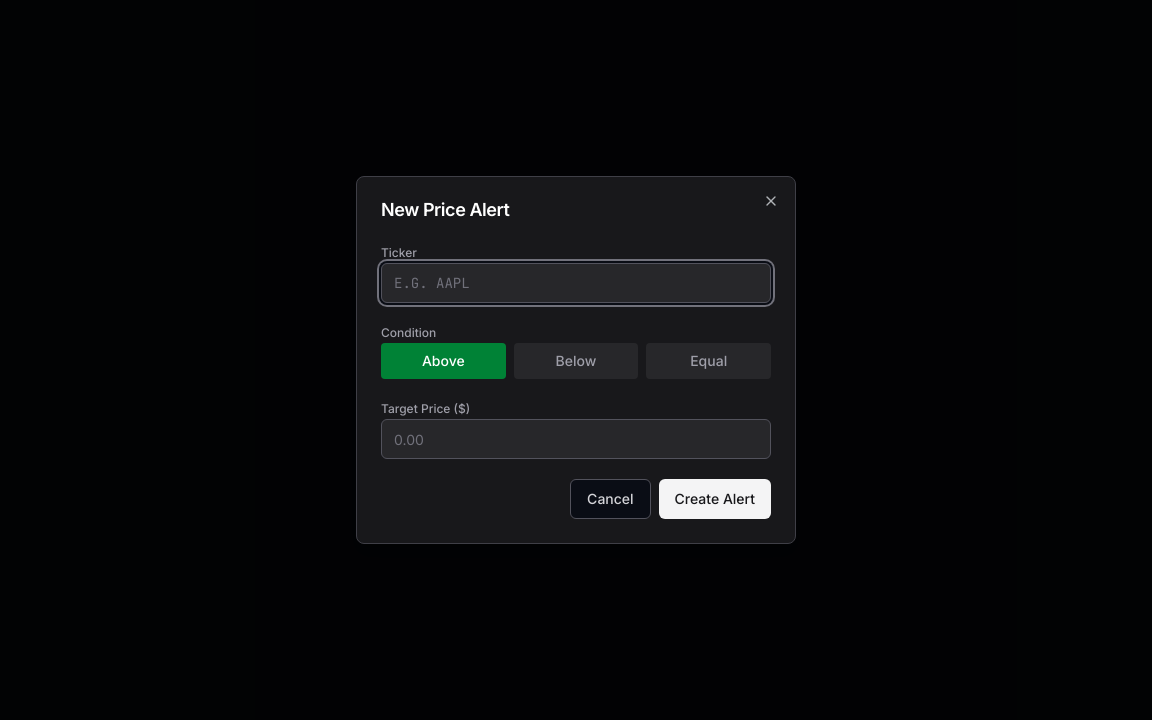
AlertCreateDialog › shows validation error when price is invalid
The width and height of the screenshot is (1152, 720).
Type "AAPL" into the field with placeholder "e.g. AAPL". click: {"x": 576, "y": 283}
box: x1=381 y1=263 x2=771 y2=303
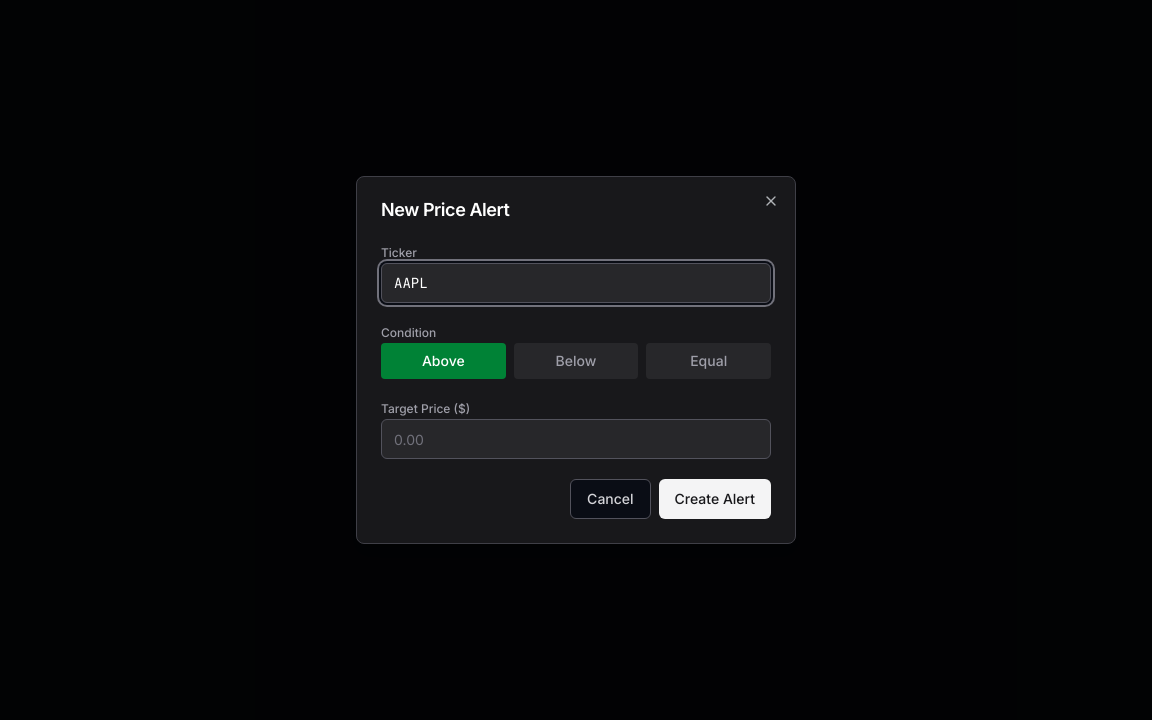
Type "-5" into the number field with placeholder "0.00". click: {"x": 576, "y": 439}
box: x1=381 y1=419 x2=771 y2=459
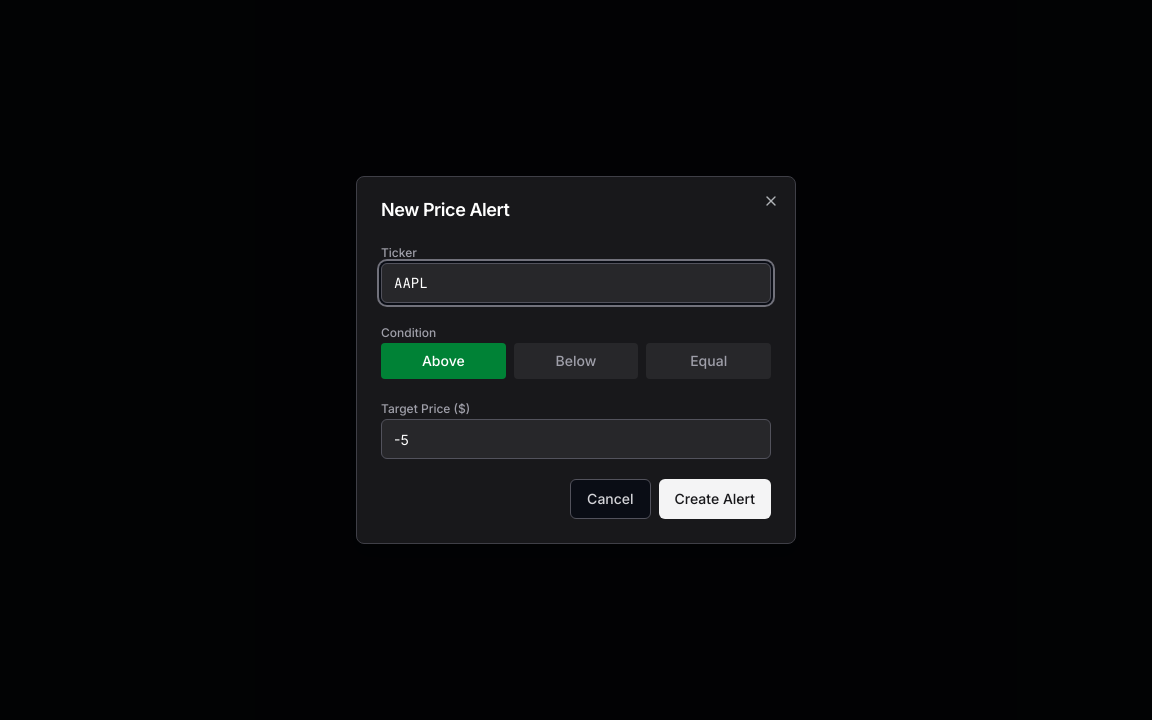
Click the button "Create Alert". click: {"x": 715, "y": 499}
box: x1=659 y1=479 x2=771 y2=519
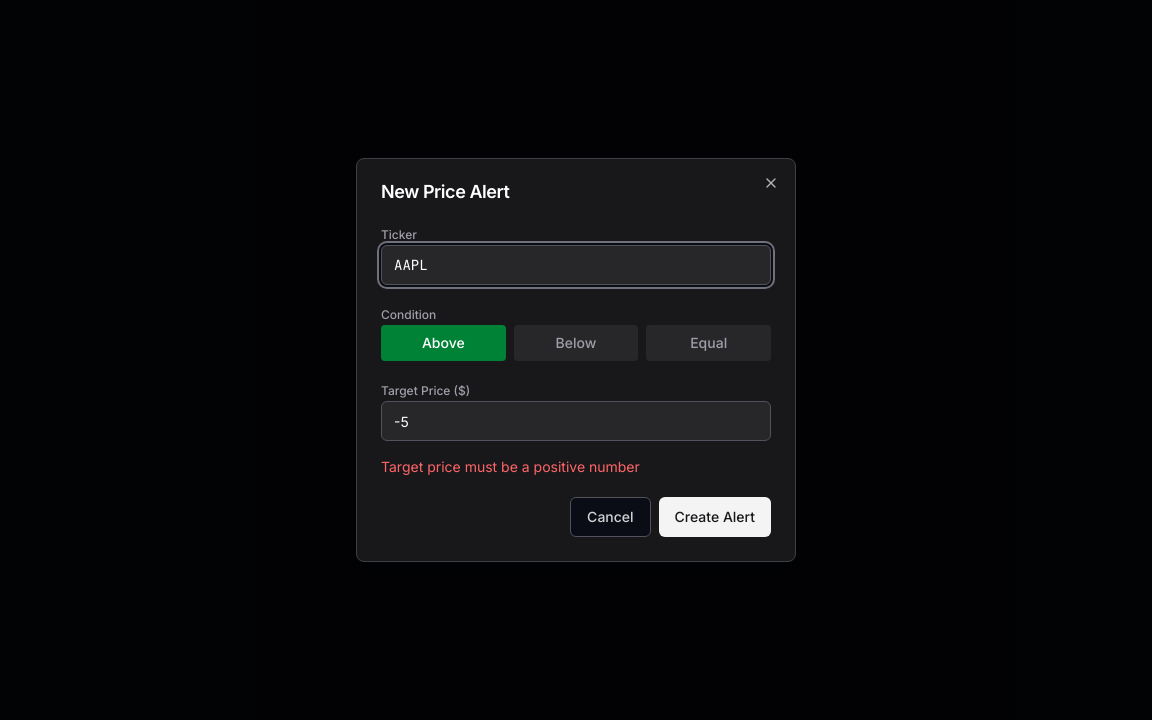
Check: the text "Target price must be a positive number" is shown, box x1=381 y1=458 x2=640 y2=475
